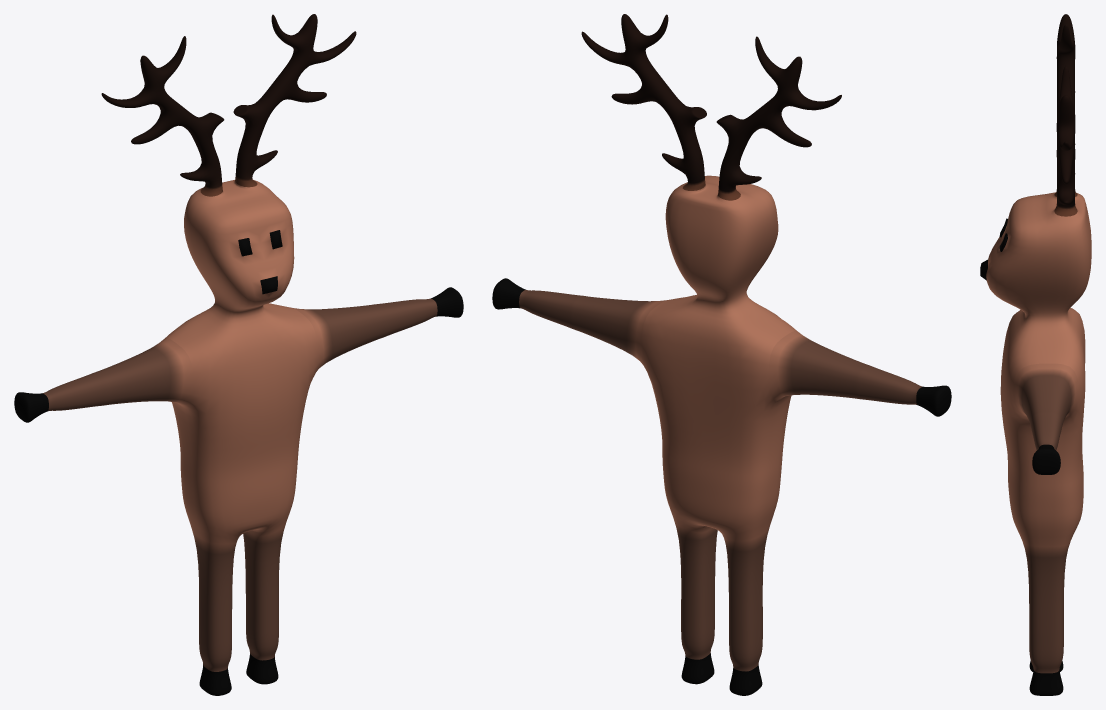
Rendered from Jelen.fbx.
3 views of the same model, side by side, from view 1: azimuth 30°, elevation 25°; view 2: azimuth 150°, elevation 25°; view 3: azimuth 270°, elevation 25° (orthographic). The views are drawn at different scales.
Visible parts, largest first — view 1: Cube; view 2: Cube; view 3: Cube.
Boxes of the visible parts, bbox=[...] form: Cube: bbox=[14, 14, 463, 695]; Cube: bbox=[492, 14, 951, 695]; Cube: bbox=[980, 14, 1091, 695].
Size of the model in its own units: 92.55 by 132 by 20.92.
Materials: 1 (1 with a texture image).
